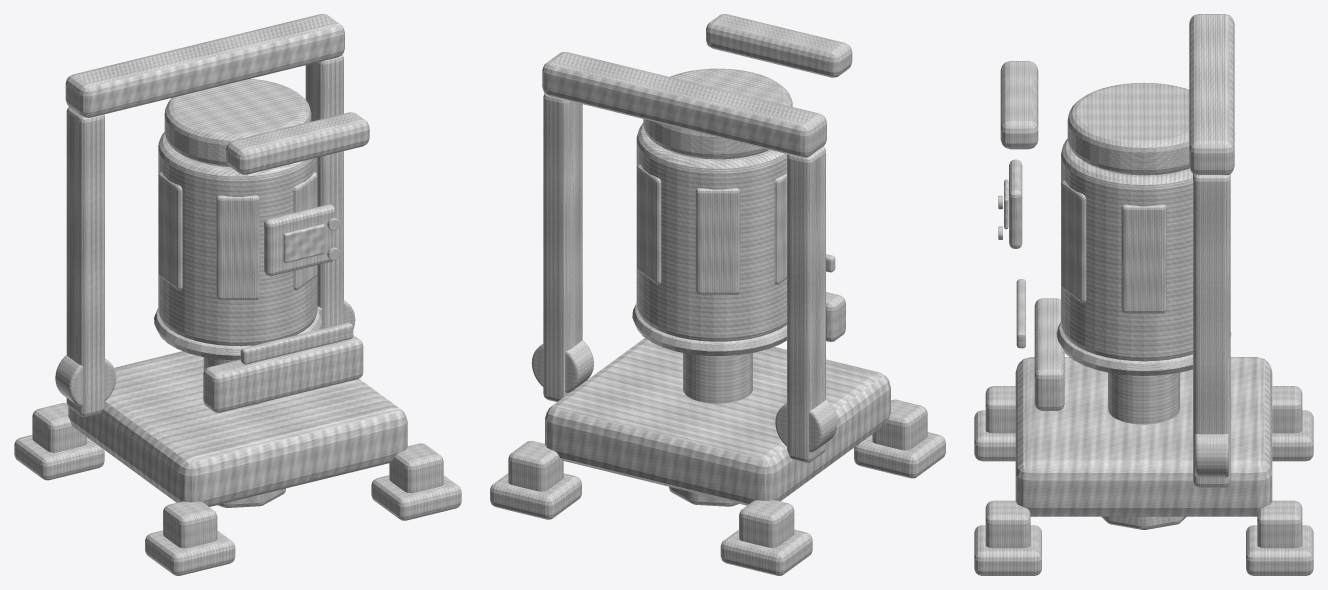
Rendered from portable_miner_variant_c.glb.
3 views of the same model, side by side, from view 1: azimuth 30°, elevation 25°; view 2: azimuth 150°, elevation 25°; view 3: azimuth 270°, elevation 25° (orthographic). The views are drawn at different scales.
Visible parts, largest first — view 1: Lower chassis.002, Motor housing.002, Top cross member, Vertical frame post, Motor upper cap.002, Open service shelf, Vertical frame post.001, Carry handle.003, Cooling fin.017, Service panel bezel.002, Cooling fin.016, Rubberized foot.010 (+11 smaller); view 2: Lower chassis.002, Motor housing.002, Top cross member, Vertical frame post, Vertical frame post.001, Carry handle.003, Cooling fin.015, Motor upper cap.002, Drive spindle.002, Cooling fin.014, Rubberized foot.009, Rubberized foot.011 (+10 smaller); view 3: Lower chassis.002, Motor housing.002, Vertical frame post.001, Motor upper cap.002, Top cross member, Cooling fin.013, Drive spindle.002, Carry handle.003, Open service shelf, Cooling fin.018, Rubberized foot.010, Rubberized foot.011 (+11 smaller).
Part boxes in pixels (left/top/right/bottom): Lower chassis.002: left=68, top=351, right=407, bottom=506; Motor housing.002: left=158, top=132, right=317, bottom=346; Top cross member: left=65, top=14, right=344, bottom=117; Vertical frame post: left=66, top=106, right=104, bottom=417; Motor upper cap.002: left=164, top=78, right=311, bottom=166; Open service shelf: left=203, top=335, right=363, bottom=412; Vertical frame post.001: left=305, top=54, right=343, bottom=328; Carry handle.003: left=226, top=112, right=369, bottom=174; Cooling fin.017: left=216, top=195, right=259, bottom=300; Service panel bezel.002: left=264, top=204, right=335, bottom=276; Cooling fin.016: left=158, top=172, right=182, bottom=290; Rubberized foot.010: left=371, top=475, right=461, bottom=520; Lower chassis.002: left=545, top=338, right=890, bottom=505; Motor housing.002: left=636, top=123, right=787, bottom=341; Top cross member: left=542, top=52, right=826, bottom=157; Vertical frame post: left=787, top=146, right=825, bottom=462; Vertical frame post.001: left=543, top=93, right=582, bottom=401; Carry handle.003: left=706, top=14, right=852, bottom=77; Cooling fin.015: left=695, top=188, right=740, bottom=294; Motor upper cap.002: left=643, top=68, right=792, bottom=159; Drive spindle.002: left=683, top=353, right=752, bottom=403; Cooling fin.014: left=637, top=164, right=661, bottom=284; Rubberized foot.009: left=720, top=529, right=812, bottom=575; Rubberized foot.011: left=490, top=473, right=581, bottom=519; Lower chassis.002: left=1015, top=357, right=1272, bottom=516; Motor housing.002: left=1061, top=139, right=1192, bottom=361; Vertical frame post.001: left=1193, top=174, right=1230, bottom=487; Motor upper cap.002: left=1067, top=82, right=1189, bottom=175; Top cross member: left=1189, top=14, right=1234, bottom=175; Cooling fin.013: left=1121, top=204, right=1166, bottom=313; Drive spindle.002: left=1108, top=372, right=1179, bottom=424; Carry handle.003: left=1000, top=61, right=1038, bottom=149; Open service shelf: left=1034, top=298, right=1064, bottom=410; Cooling fin.018: left=1061, top=180, right=1086, bottom=303; Rubberized foot.010: left=974, top=525, right=1041, bottom=575; Rubberized foot.011: left=1246, top=525, right=1313, bottom=575.
Size of what is drawn, in the model's own units: 0.92 by 1.27 by 0.9.
8 materials, 8 textured.
